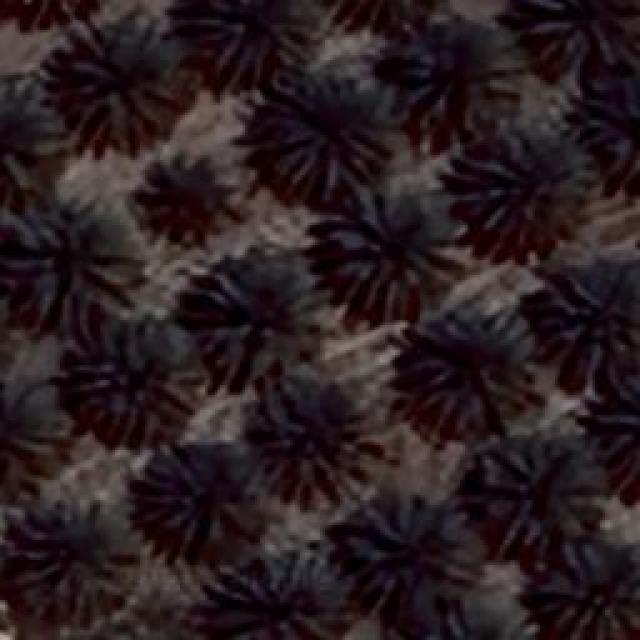PalmTree: (65, 312, 205, 438), (448, 117, 590, 240), (4, 190, 138, 320), (328, 185, 462, 310), (410, 305, 540, 430), (198, 268, 330, 388), (270, 75, 382, 203), (62, 20, 176, 145), (482, 442, 602, 548), (67, 105, 615, 126), (250, 396, 365, 496), (18, 498, 132, 598), (396, 36, 512, 134), (355, 502, 460, 608), (530, 542, 635, 638), (192, 0, 318, 80), (38, 111, 67, 440), (222, 560, 342, 638), (140, 452, 235, 538), (547, 275, 635, 355), (0, 76, 58, 192), (525, 0, 632, 62), (146, 162, 224, 226), (595, 368, 635, 480), (408, 607, 534, 640), (316, 0, 451, 26), (0, 1, 106, 20), (81, 629, 196, 640)
